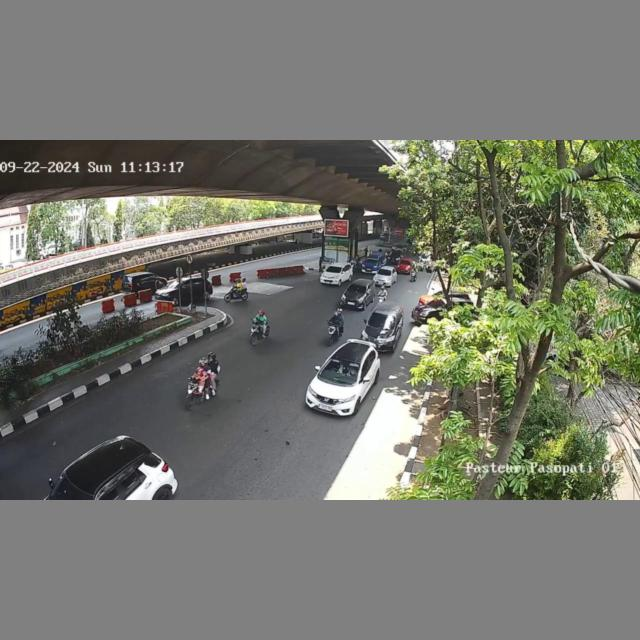windshield: (319, 356, 363, 380), (368, 312, 399, 330), (347, 284, 368, 295), (325, 265, 344, 273), (378, 269, 391, 276)
